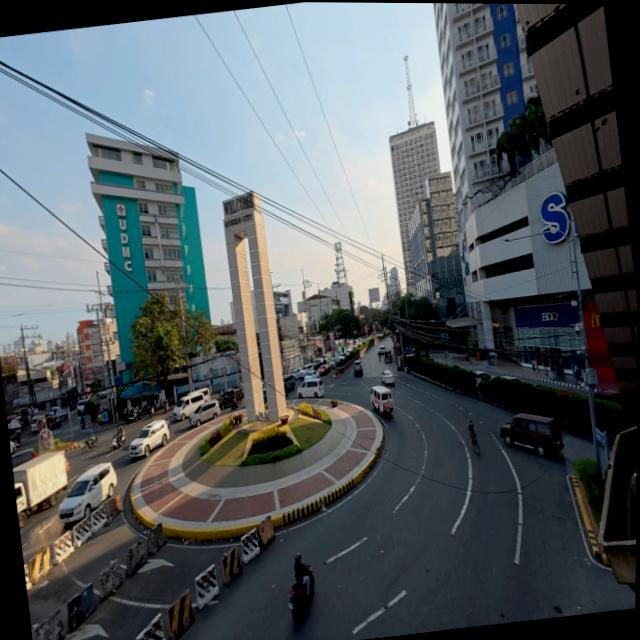Jeepneys: (382, 348, 393, 362)
car: (59, 463, 117, 523), (500, 413, 564, 455), (130, 419, 169, 457), (189, 401, 221, 426), (217, 388, 242, 410), (12, 448, 37, 468), (594, 389, 621, 403), (475, 371, 492, 387), (283, 374, 296, 393), (380, 370, 394, 385), (46, 414, 61, 428), (31, 417, 44, 433), (77, 398, 88, 415), (9, 431, 21, 446), (353, 361, 363, 376), (501, 375, 522, 382), (317, 363, 329, 375), (297, 366, 308, 378), (305, 369, 319, 378), (290, 367, 300, 378), (314, 358, 324, 369), (10, 441, 17, 453), (50, 407, 60, 415), (329, 359, 336, 369), (338, 354, 345, 362), (379, 346, 385, 354)
motorcycle: (289, 583, 308, 619), (111, 431, 125, 452), (82, 439, 98, 453), (155, 400, 169, 413), (127, 409, 139, 422), (231, 398, 238, 411), (80, 417, 86, 430)
trucks: (13, 451, 67, 528)
vans: (173, 389, 210, 420), (370, 386, 393, 413), (298, 378, 324, 398)
